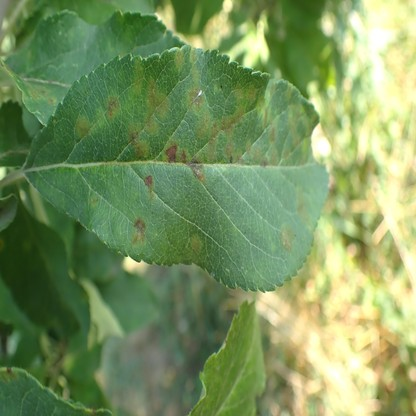scab: (287, 105, 315, 145), (187, 89, 210, 136), (148, 77, 170, 118), (22, 80, 56, 104), (164, 137, 190, 165), (127, 124, 149, 156), (221, 106, 244, 136), (129, 60, 143, 103), (296, 185, 311, 224), (132, 214, 147, 248), (207, 118, 219, 160), (224, 140, 243, 165), (189, 157, 206, 184), (76, 114, 93, 138), (281, 224, 296, 251), (107, 92, 121, 120), (145, 104, 158, 134), (189, 46, 199, 84), (0, 367, 15, 383), (189, 234, 201, 253), (146, 173, 154, 199), (247, 86, 258, 104), (233, 83, 244, 100), (175, 50, 184, 70), (269, 149, 278, 168), (90, 192, 100, 209), (269, 124, 277, 142), (253, 148, 261, 165), (245, 138, 252, 156), (286, 85, 293, 102), (263, 107, 268, 130), (270, 80, 277, 95), (281, 148, 290, 157), (262, 156, 268, 167), (300, 158, 306, 166)
